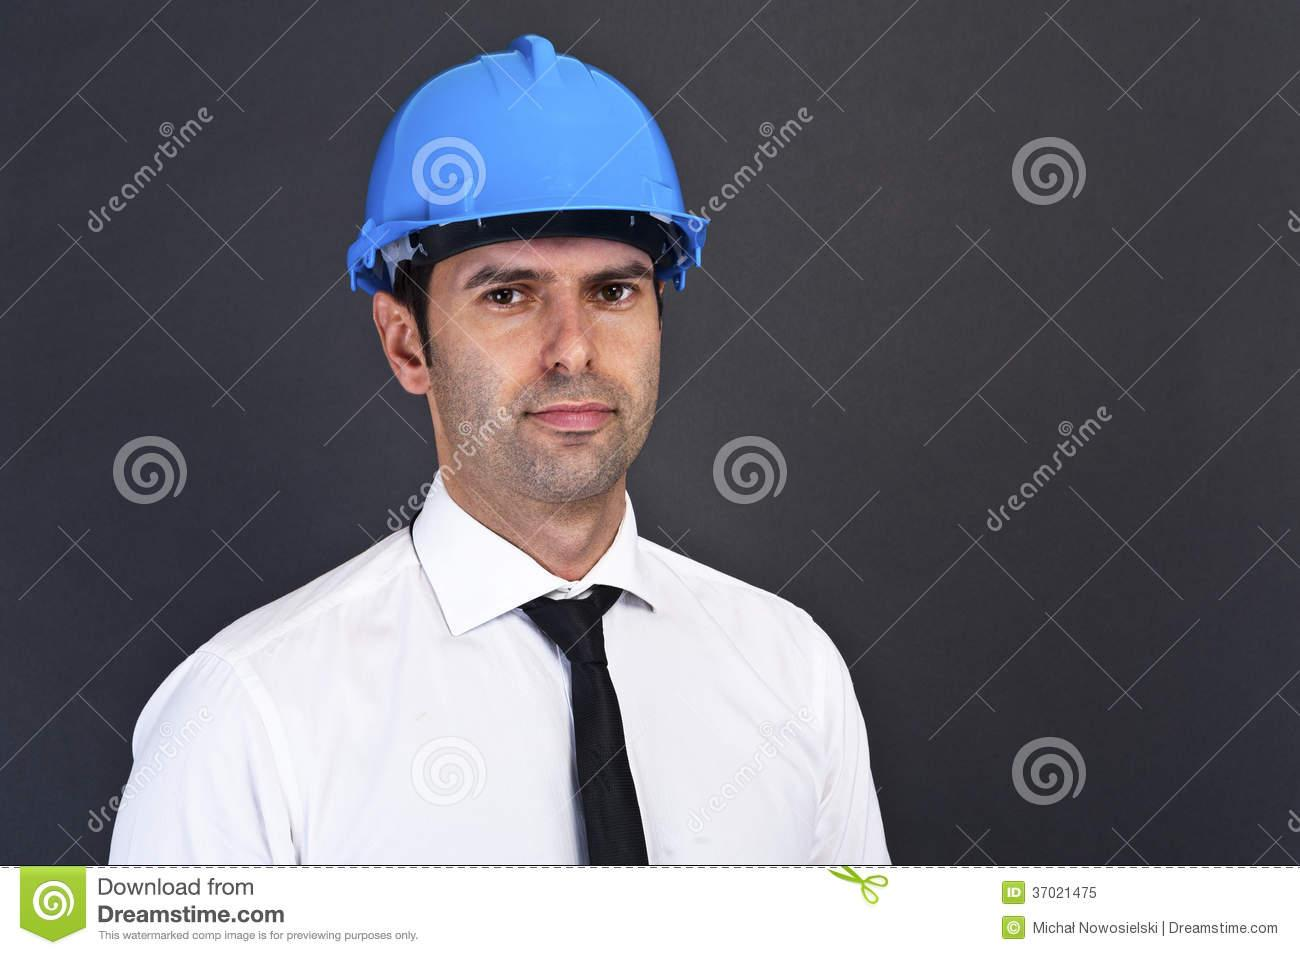helmet: (341, 33, 714, 307)
